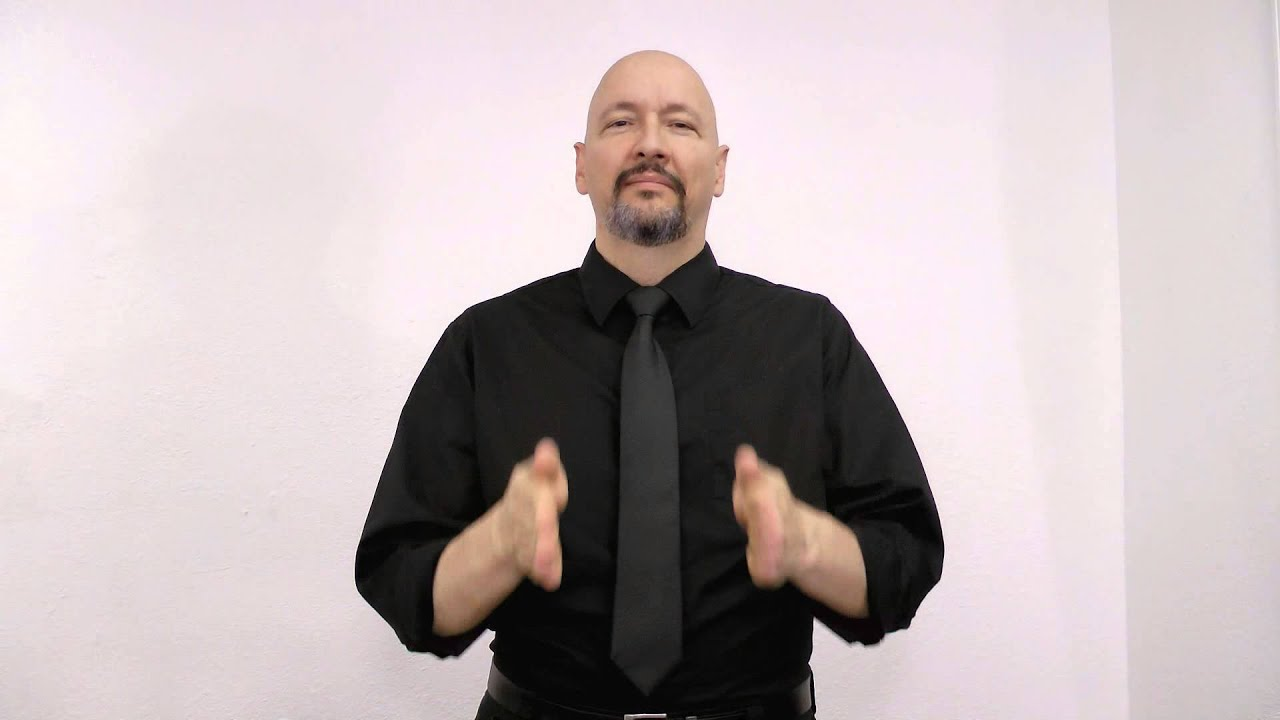human: (331, 43, 1004, 720)
